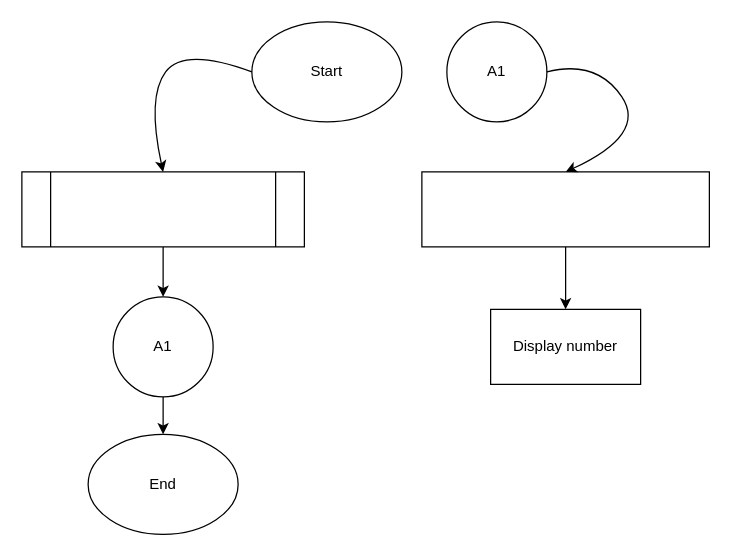
The diagram is 731 pixels wide and 556 high, and some of its shapes have lost their labels. The shapes that lost their labels are listed below. From the top down, each one's box as (x1, y1, x2, y2) in pixels, then its label:
(21, 171, 304, 247): range_between_six_numbers
(421, 171, 709, 247): Generate random number between(1, 6)
